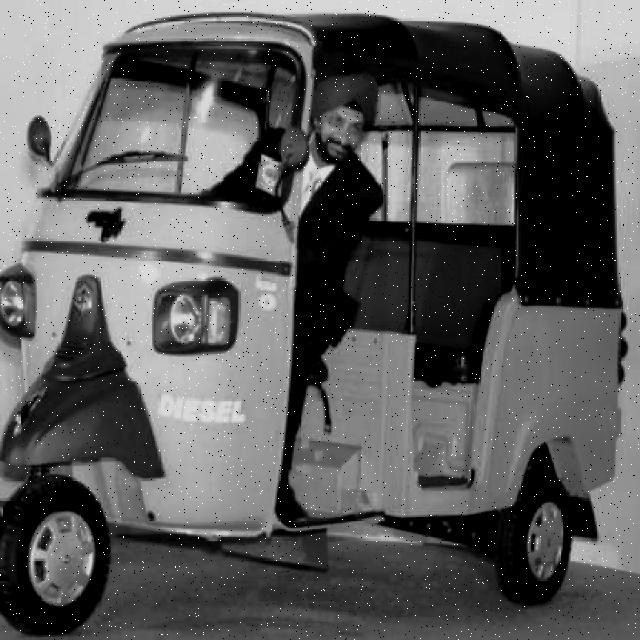Auto-Rickshaw: (0, 15, 629, 634)
